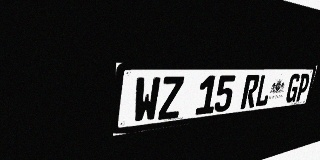1: (195, 75, 219, 115)
5: (214, 75, 236, 113)
G: (285, 74, 301, 103)
L: (254, 74, 273, 107)
P: (295, 74, 311, 102)
R: (240, 75, 260, 109)
W: (132, 77, 161, 124)
Z: (158, 76, 184, 120)
